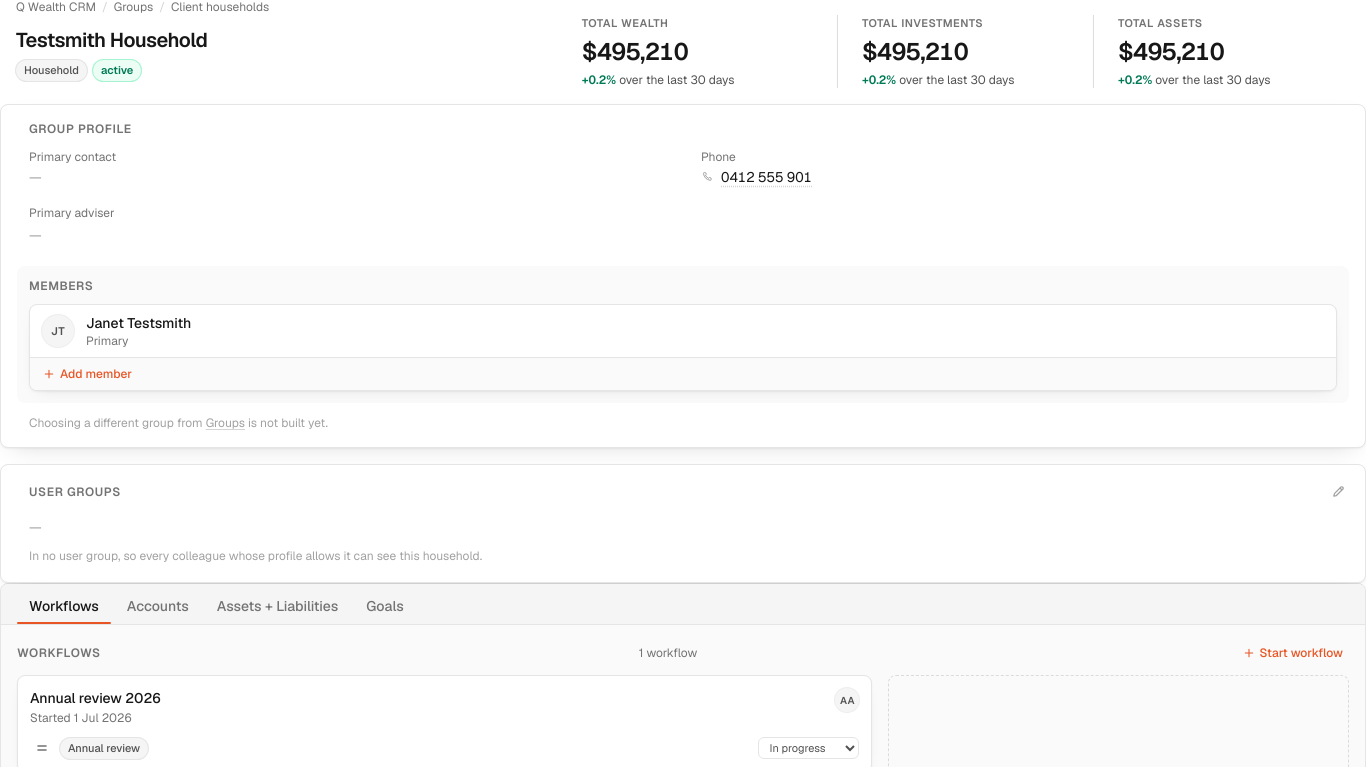
the Accounts tab’s investment section › sits in a two-column split, records on the left and the donut on the right
Click the tab "Accounts" at (158, 606), box [115, 588, 201, 624]
(page scrolled)
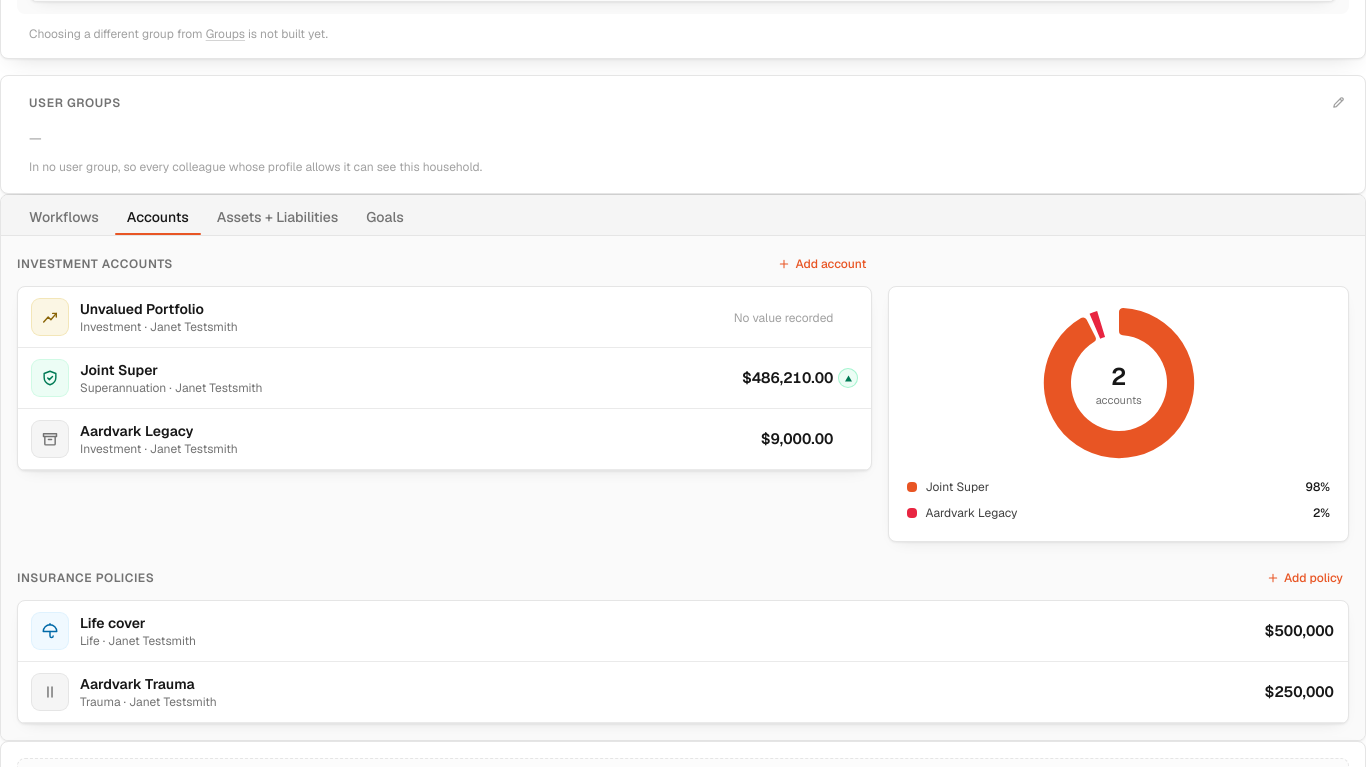
Check: the heading "Investment Accounts" is shown, box [17, 256, 173, 272]
Check: the text "Joint Super" in the row of "$486,210.00" is shown, box [80, 361, 158, 379]
Check: the picture is shown, box [1039, 303, 1199, 463]
